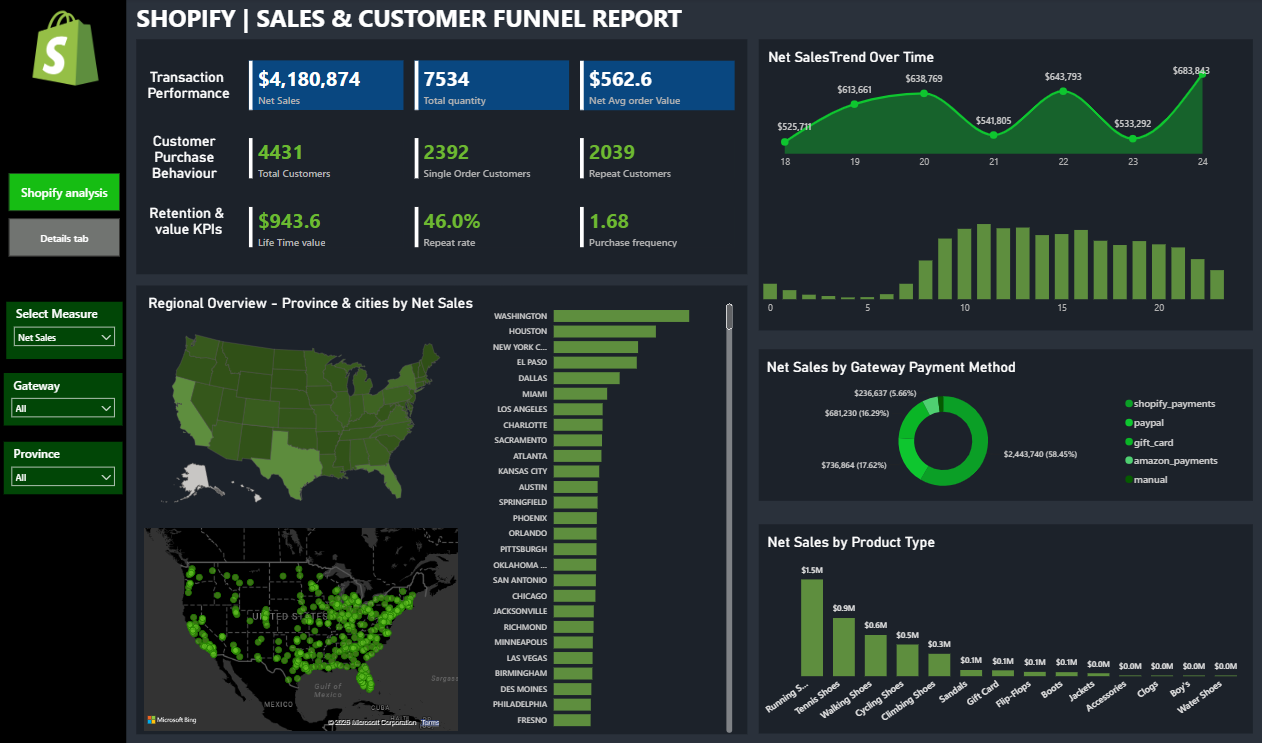

The dashboard page shown, as its layout file describes it:
{"tool":"powerbi","page":{"name":"Shopify analysis","canvas":[1700,1000],"ordinal":0},"visuals":[{"type":"shape","box":[0,0,169.2,1000.3],"z":0},{"type":"textbox","box":[169.2,0,777.5,55.3],"z":1000},{"type":"shape","box":[182.6,55.3,819.4,315],"z":2000},{"type":"cardVisual","fields":{"Data":["shopify_sales.Net Sales","shopify_sales.Total quantity","shopify_sales.Net Avg order Value"]},"box":[316.7,67,685.3,100.5],"z":3000},{"type":"card","fields":{"Values":["shopify_sales.Transaction Perf"]},"box":[189.3,78.8,127.3,77.1],"z":4000},{"type":"cardVisual","fields":{"Data":["shopify_sales.Total Customers","shopify_sales.Single Order Customers","shopify_sales.Repeat Customers"]},"box":[316.7,170.9,685.3,88.8],"z":5000},{"type":"card","fields":{"Values":["shopify_sales.Customer Purchase Behaviour"]},"box":[185.3,170.2,127.3,83.8],"z":6000},{"type":"cardVisual","fields":{"Data":["shopify_sales.Life Time value","shopify_sales.Repeat rate","shopify_sales.Purchase frequency"]},"box":[316.7,263.1,685.3,88.8],"z":7000},{"type":"card","fields":{"Values":["shopify_sales.Retention & value KPIs"]},"box":[189.3,263.1,127.3,92.2],"z":8000},{"type":"shape","box":[182.6,385.4,819.4,601.5],"z":9000},{"type":"shapeMap","fields":{"Value":["shopify_sales.Net Sales"],"Category":["shopify_sales.Billing Address Province"]},"box":[187.7,434,430.6,259.7],"z":10000},{"type":"slicer","fields":{"Values":["Select Measure.Select Measure"]},"box":[8.4,407.2,155.8,77.1],"z":11000},{"type":"map","fields":{"Category":["shopify_sales.Location"]},"box":[187.7,705.4,430.6,281.5],"z":12000},{"type":"clusteredBarChart","fields":{"Y":["shopify_sales.Net Sales"],"Category":["shopify_sales.CITY"]},"box":[643.4,397.1,343.5,593.2],"z":13000},{"type":"card","fields":{"Values":["shopify_sales.Map Title"]},"box":[182.6,385.4,467.5,48.6],"z":14000},{"type":"shape","box":[1016.5,54.9,662.8,390.3],"z":15000},{"type":"areaChart","fields":{"Y":["shopify_sales.Net Sales"],"Category":["shopify_sales.Invoice Date.Variation.Date Hierarchy.Day"]},"box":[1037.2,78.8,589.8,159.2],"z":16000},{"type":"columnChart","fields":{"Y":["shopify_sales.Net Sales"],"Category":["shopify_sales.Hour"]},"box":[1017.1,263.1,630,170.9],"z":17000},{"type":"card","fields":{"Values":["shopify_sales.Trend Title"]},"box":[1016.5,54.9,248,48.8],"z":18000},{"type":"shape","box":[1016.5,471.7,662.8,203.3],"z":19000},{"type":"donutChart","fields":{"Y":["shopify_sales.Net Sales"],"Category":["shopify_sales.Gateway"]},"box":[1017.1,512.7,630,162.5],"z":20000},{"type":"card","fields":{"Values":["shopify_sales.Gateway Title"]},"box":[1016.5,471.7,355.8,46.8],"z":21000},{"type":"shape","box":[1016.5,705.5,662.8,280.6],"z":22000},{"type":"clusteredColumnChart","fields":{"Y":["shopify_sales.Net Sales"],"Category":["shopify_sales.Product Type"]},"box":[1017.1,718.8,663.5,271.4],"z":23000},{"type":"card","fields":{"Values":["shopify_sales.Product Title"]},"box":[1002.3,705.5,278.5,46.8],"z":24000},{"type":"slicer","fields":{"Values":["shopify_sales.Gateway"]},"box":[5,502.7,159.2,70.4],"z":25000},{"type":"slicer","fields":{"Values":["shopify_sales.Billing Address Province"]},"box":[5,594.8,159.2,70.4],"z":26000},{"type":"pageNavigator","box":[11.7,234.6,149.1,113.9],"z":27000},{"type":"image","box":[25.1,16.8,125.7,100.5],"z":27001}]}

Visuals, with their boxes on the page's 1700x1000 design canvas (x1, y1, x2, y2). These are canvas units, not pixel positions in the 1262x743 screenshot, which may show the page scaled, cropped or inside an application window:
shape: box=[0, 0, 169, 1000]
textbox: box=[169, 0, 947, 55]
shape: box=[183, 55, 1002, 370]
cardVisual - shopify_sales.Net Sales x shopify_sales.Total quantity: box=[317, 67, 1002, 168]
card - shopify_sales.Transaction Perf: box=[189, 79, 317, 156]
cardVisual - shopify_sales.Total Customers x shopify_sales.Single Order Customers: box=[317, 171, 1002, 260]
card - shopify_sales.Customer Purchase Behaviour: box=[185, 170, 313, 254]
cardVisual - shopify_sales.Life Time value x shopify_sales.Repeat rate: box=[317, 263, 1002, 352]
card - shopify_sales.Retention & value KPIs: box=[189, 263, 317, 355]
shape: box=[183, 385, 1002, 987]
shapeMap - shopify_sales.Net Sales x shopify_sales.Billing Address Province: box=[188, 434, 618, 694]
slicer - Select Measure.Select Measure: box=[8, 407, 164, 484]
map - shopify_sales.Location: box=[188, 705, 618, 987]
clusteredBarChart - shopify_sales.Net Sales x shopify_sales.CITY: box=[643, 397, 987, 990]
card - shopify_sales.Map Title: box=[183, 385, 650, 434]
shape: box=[1016, 55, 1679, 445]
areaChart - shopify_sales.Net Sales x shopify_sales.Invoice Date.Variation.Date Hierarchy.Day: box=[1037, 79, 1627, 238]
columnChart - shopify_sales.Net Sales x shopify_sales.Hour: box=[1017, 263, 1647, 434]
card - shopify_sales.Trend Title: box=[1016, 55, 1264, 104]
shape: box=[1016, 472, 1679, 675]
donutChart - shopify_sales.Net Sales x shopify_sales.Gateway: box=[1017, 513, 1647, 675]
card - shopify_sales.Gateway Title: box=[1016, 472, 1372, 518]
shape: box=[1016, 706, 1679, 986]
clusteredColumnChart - shopify_sales.Net Sales x shopify_sales.Product Type: box=[1017, 719, 1681, 990]
card - shopify_sales.Product Title: box=[1002, 706, 1281, 752]
slicer - shopify_sales.Gateway: box=[5, 503, 164, 573]
slicer - shopify_sales.Billing Address Province: box=[5, 595, 164, 665]
pageNavigator: box=[12, 235, 161, 348]
image: box=[25, 17, 151, 117]
